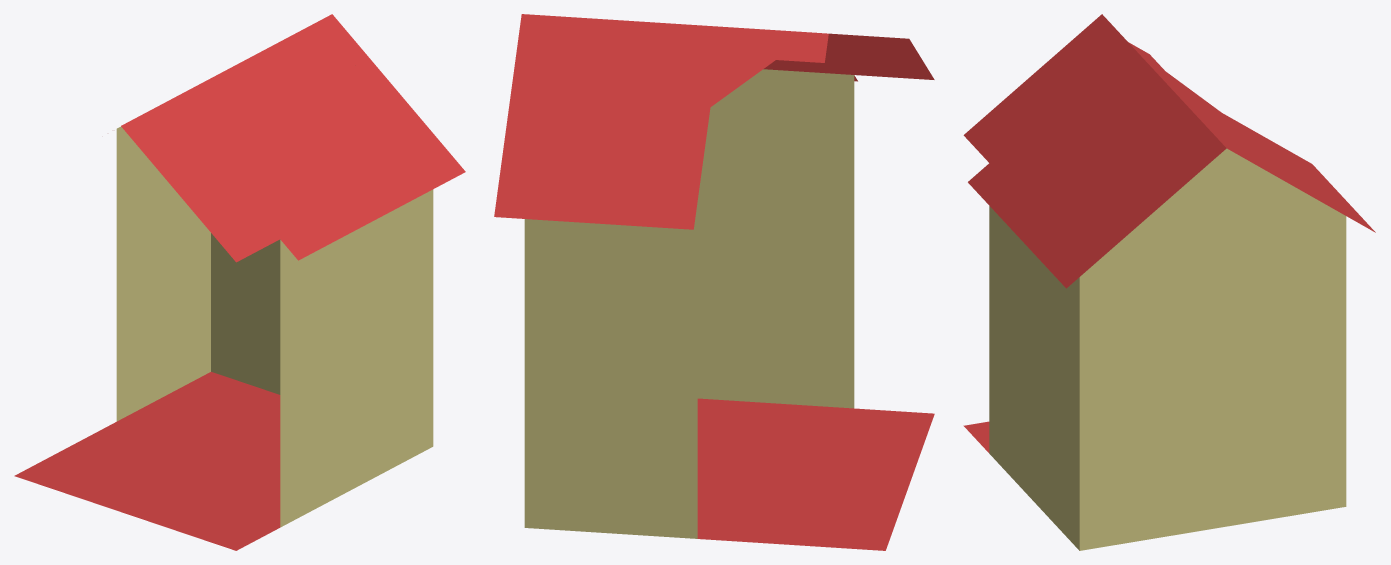
3 views of the same model, side by side, from view 1: azimuth 30°, elevation 25°; view 2: azimuth 150°, elevation 25°; view 3: azimuth 270°, elevation 25° (orthographic). The views are drawn at different scales.
Bounding box in the file's own units: 13.83 × 13.25 × 13.77.
